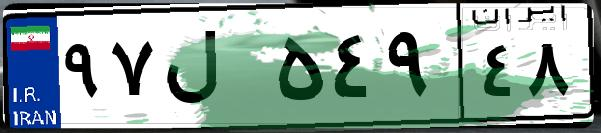4: (330, 28, 385, 110), (475, 38, 525, 113)
5: (270, 28, 330, 110)
7: (110, 28, 158, 98)
8: (525, 38, 570, 115)
9: (385, 28, 445, 110), (57, 26, 110, 100)
ل: (158, 20, 270, 120)
